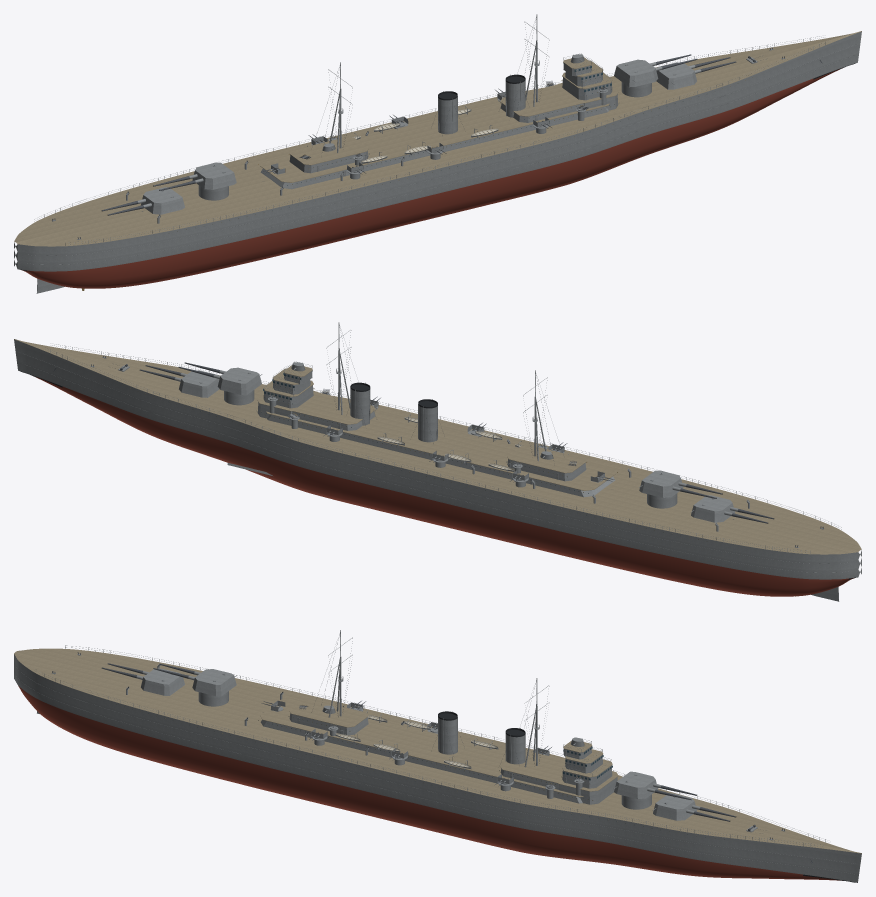
Rendered from demo-hood1941.glb.
The picture shows the model from 3 angles, top to bottom: view 1: azimuth 30°, elevation 25°; view 2: azimuth 150°, elevation 25°; view 3: azimuth 330°, elevation 25°; orthographic projection.
Parts seen in each view (by area): view 1: HMS Hood — 1941 battle fit; view 2: HMS Hood — 1941 battle fit; view 3: HMS Hood — 1941 battle fit.
Boxes of the visible parts, x1,y1,x2,y2 form: HMS Hood — 1941 battle fit: [14, 14, 861, 293]; HMS Hood — 1941 battle fit: [14, 322, 861, 601]; HMS Hood — 1941 battle fit: [14, 630, 861, 882].
Bounding box in the file's own units: 262 × 47.33 × 31.89.
8 materials, 2 textured.
